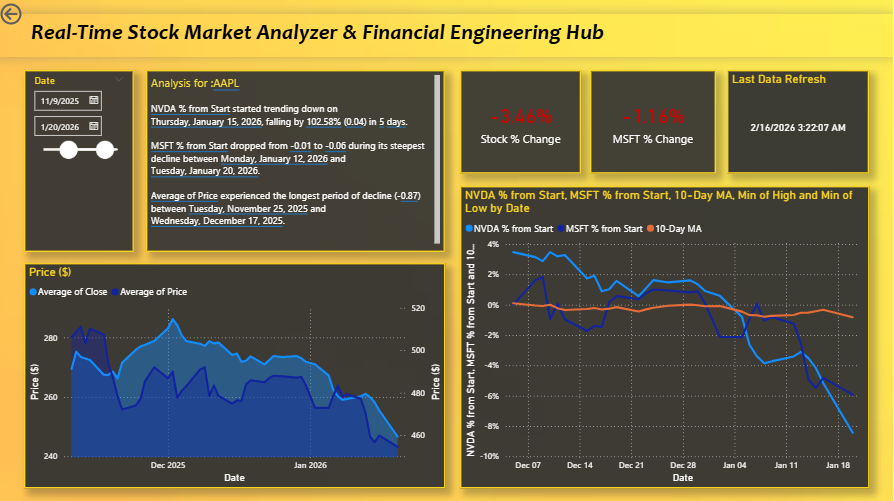

Layout of this report page (visuals, bound fields, positions):
{"tool":"powerbi","page":{"name":"Page 1","canvas":[1280,720],"ordinal":0},"visuals":[{"type":"areaChart","title":"Price ($)","fields":{"Y":["Avg(NvidiaData.4. close)"],"Category":["NvidiaData.Date"],"Y2":["Avg(MicrosoftData.Price)"]},"box":[38.3,375,601.7,321.7],"z":0},{"type":"card","fields":{"Values":["NvidiaData.Stock % Change"]},"box":[661.7,100,173.3,148.3],"z":1000},{"type":"slicer","fields":{"Values":["NvidiaData.Date"]},"box":[38.3,100,156.7,260],"z":2000},{"type":"card","fields":{"Values":["MicrosoftData.MSFT % Change"]},"box":[846.7,100,180,148.3],"z":3000},{"type":"lineChart","fields":{"Category":["MicrosoftData.Date"],"Y":["NvidiaData.NVDA % from Start","MicrosoftData.MSFT % from Start","LastUpdate.10-Day MA"]},"box":[661.7,265,585,431.7],"z":4000},{"type":"card","title":"Last Data Refresh","fields":{"Values":["Min(RefreshStatus.Last Refresh)"]},"box":[1043.3,100,203.3,148.3],"z":5000},{"type":"actionButton","box":[0,0,100,40],"z":6000},{"type":"textbox","box":[213.3,100,426.7,260],"z":7000},{"type":"textbox","box":[0,20,1280,61.4],"z":8000}]}

Visuals, with their boxes in screenshot pixels (x1, y1, x2, y2), scaled from the page's 1280x720 canvas onto the 894x501 screenshot:
"Price ($)" areaChart: Rect(27, 261, 447, 485)
card - NvidiaData.Stock % Change: Rect(462, 70, 583, 173)
slicer - NvidiaData.Date: Rect(27, 70, 136, 250)
card - MicrosoftData.MSFT % Change: Rect(591, 70, 717, 173)
lineChart - MicrosoftData.Date x NvidiaData.NVDA % from Start: Rect(462, 184, 871, 485)
"Last Data Refresh" card: Rect(729, 70, 871, 173)
actionButton: Rect(0, 0, 70, 28)
textbox: Rect(149, 70, 447, 250)
textbox: Rect(0, 14, 893, 57)
